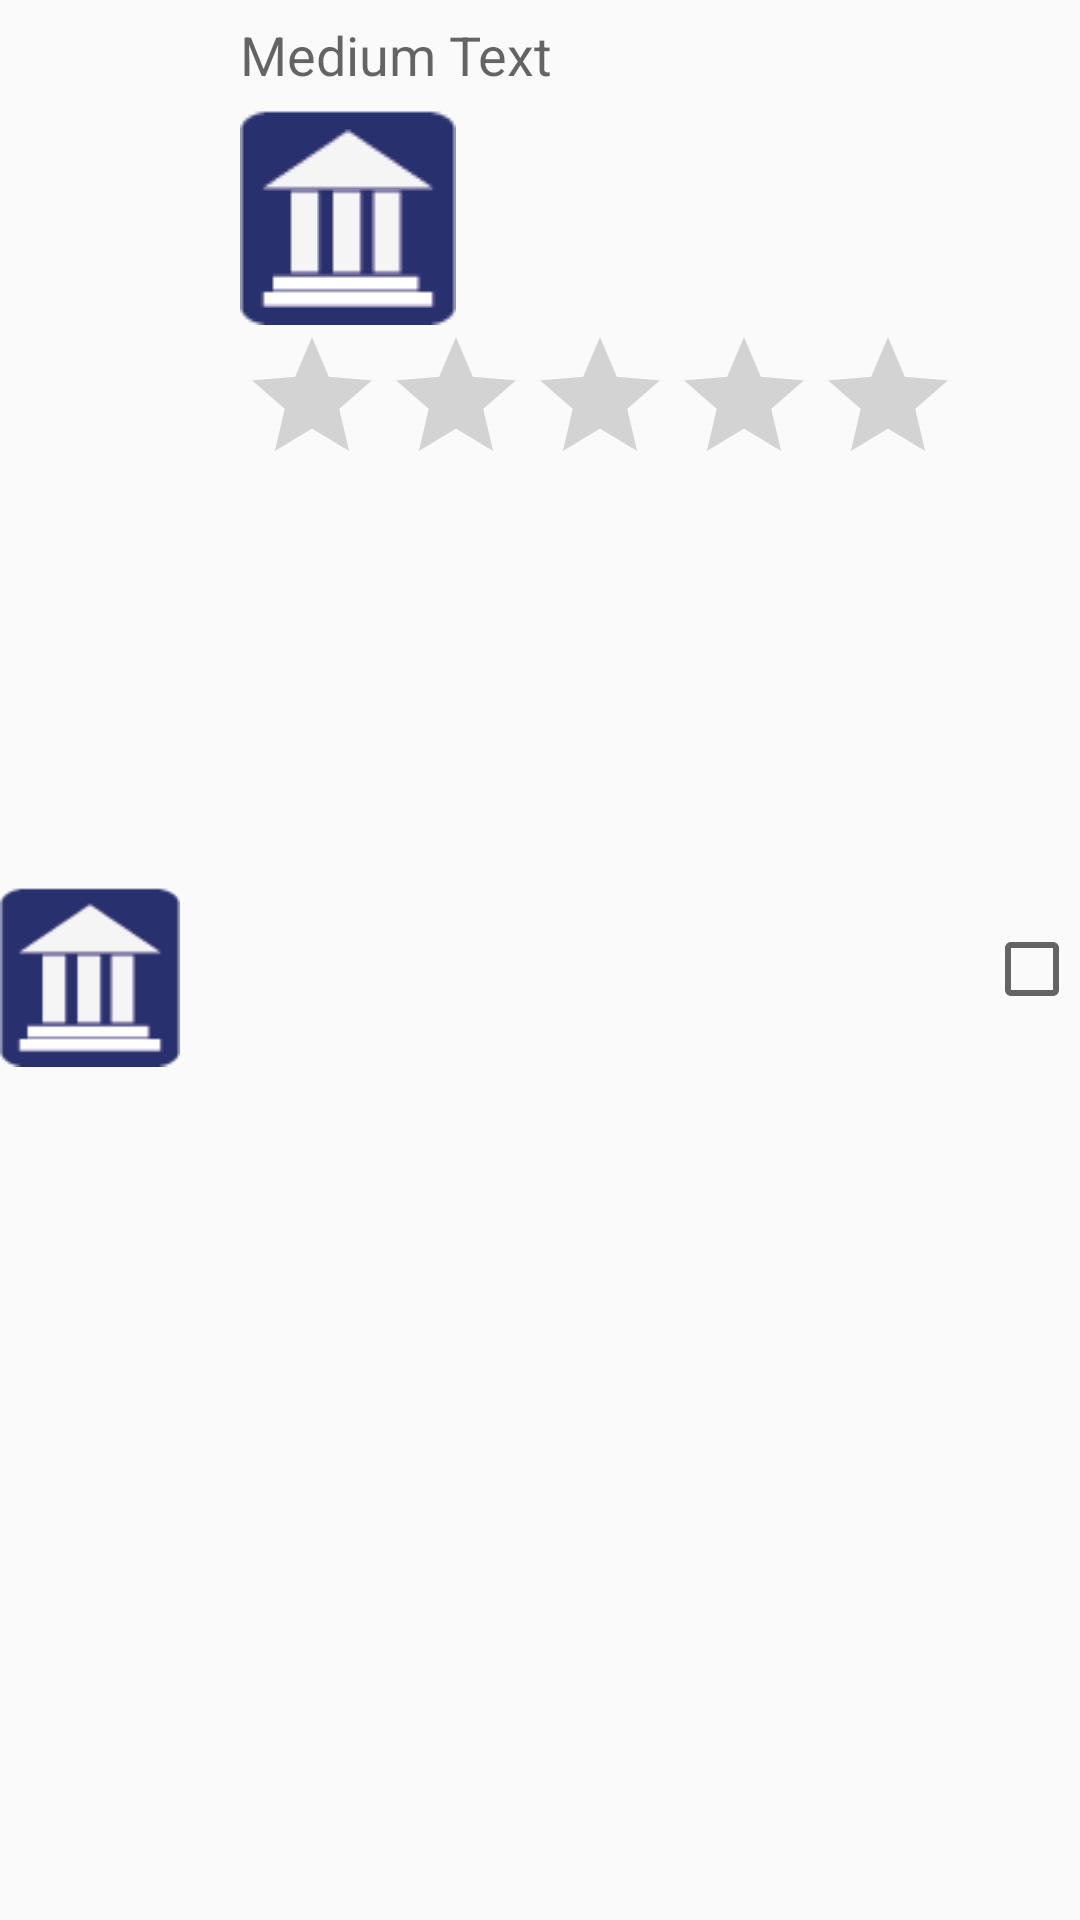

Point at icon controls on the screen. Image size 1080*1920, points as [x,y].
culture: [348,218], [90,977]
